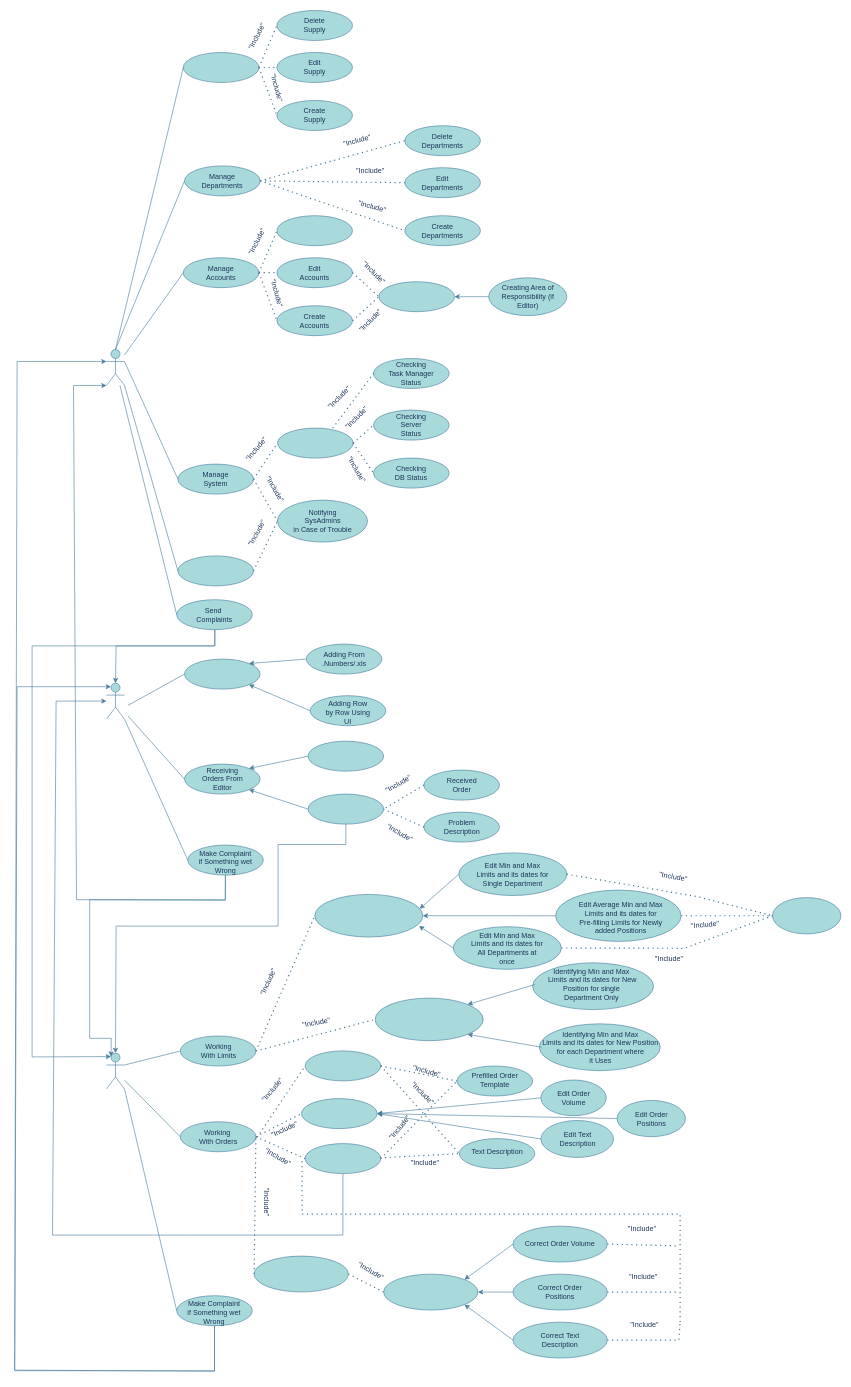
Some shapes in this 851 by 1387 pixel diagram are drawn without their labels. The shapes that lost their labels are listed below. From the top down, each one's centre as x and y in pixels, then its label:
At point (221, 67): "Manage Supply".
At point (314, 230): "Delete Accounts".
At point (416, 296): "Choosing Role".
At point (115, 367): "Admin".
At point (315, 443): "Checking Status".
At point (215, 570): "Receiving User Complaints".
At point (222, 673): "Adding Data".
At point (115, 700): "Data Producer".
At point (345, 756): "Making Order".
At point (345, 809): "Sending Order to Adjustment".
At point (368, 915): "Edit Min and Max Limits and its dates".
At point (806, 915): "Analyzing legacy files and their Stat".
At point (429, 1019): "Identifying Min and Max Limits and its dates for Each New Position".
At point (115, 1070): "Editor".
At point (342, 1065): "Receiving Prefilled Orders from System".
At point (339, 1113): "Edit Orders and its Description if Necessary".
At point (342, 1158): "Verifying Orders for sending to Data Producers".
At point (301, 1274): "Receiving Challenged Orders From Data Producer".
At point (430, 1292): "Familiarization With The Problem".
